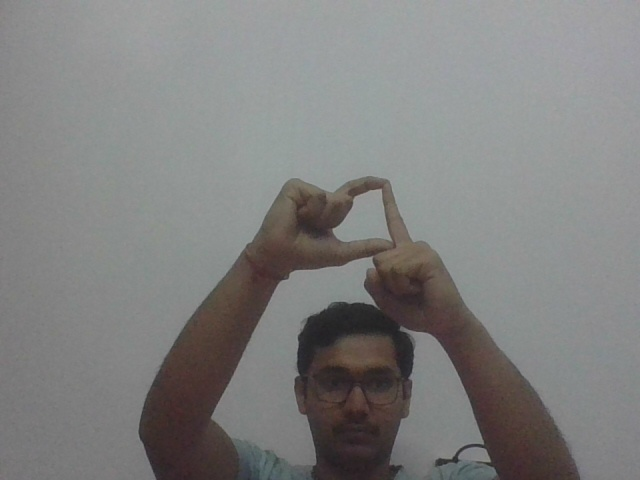D: (258, 171, 469, 323)
